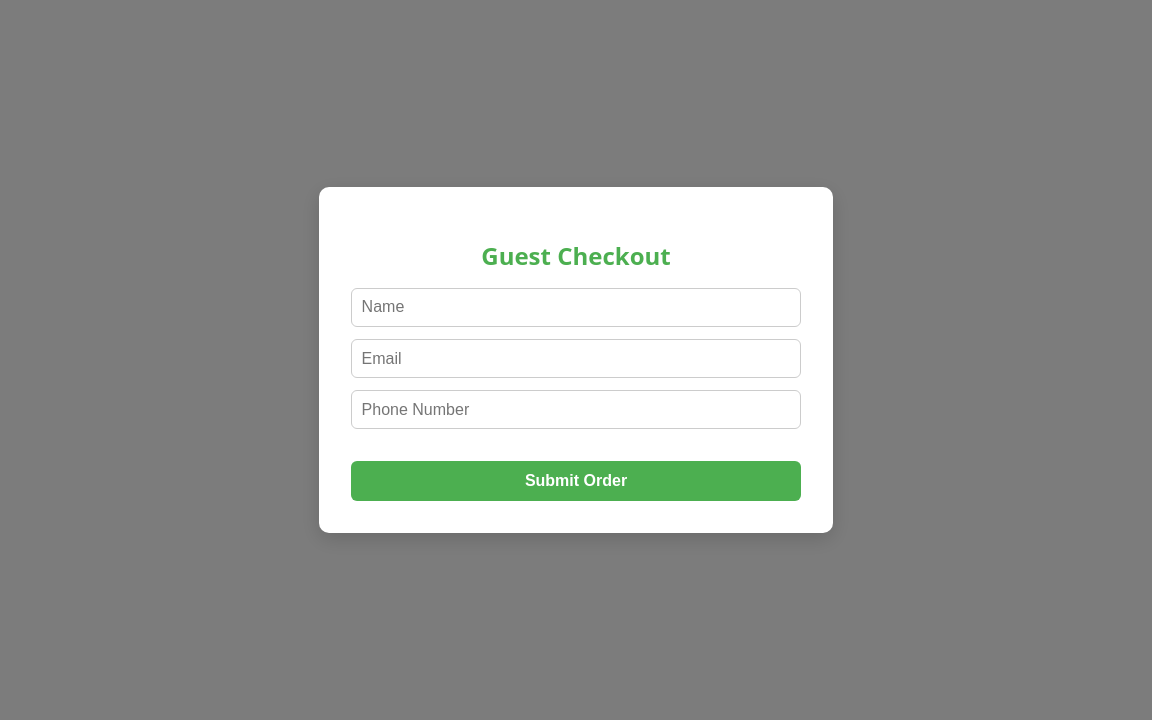
Test: GuestCheckoutModal › submits order and shows success message
Step 1. Type "John Doe" into the field with placeholder "Name" → (576, 308), box top-left (351, 288), bottom-right (801, 327)
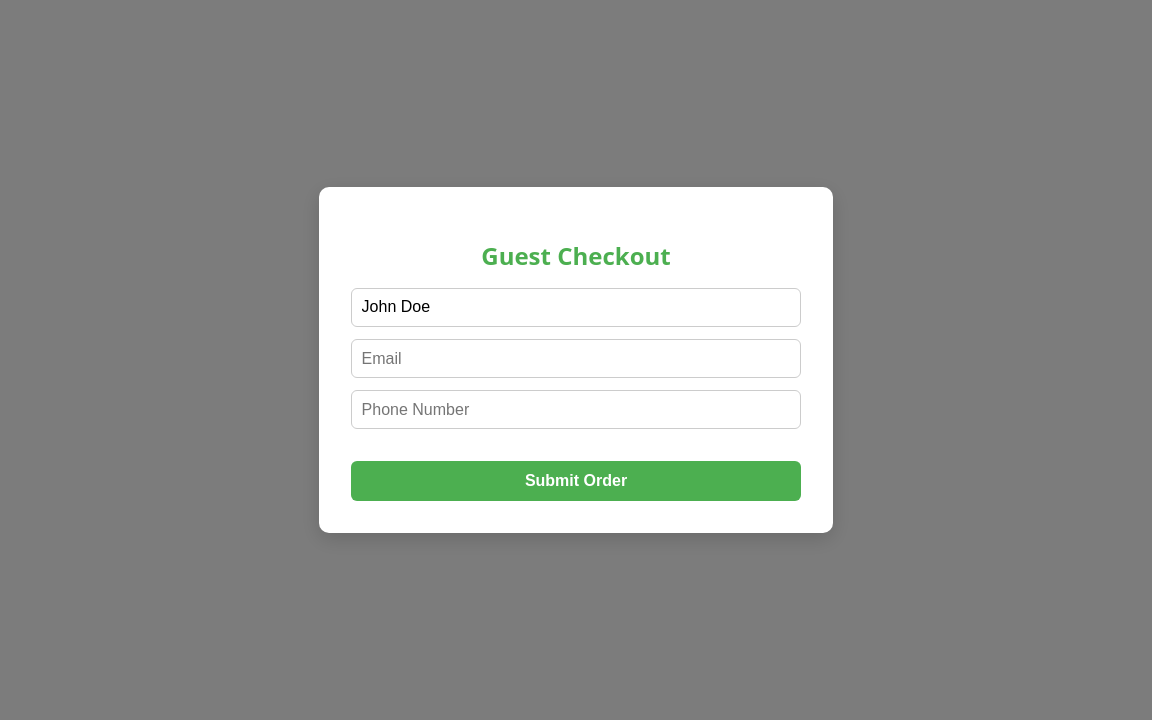
Step 2. Type "john@example.com" into the field with placeholder "Email" → (576, 359), box top-left (351, 339), bottom-right (801, 378)
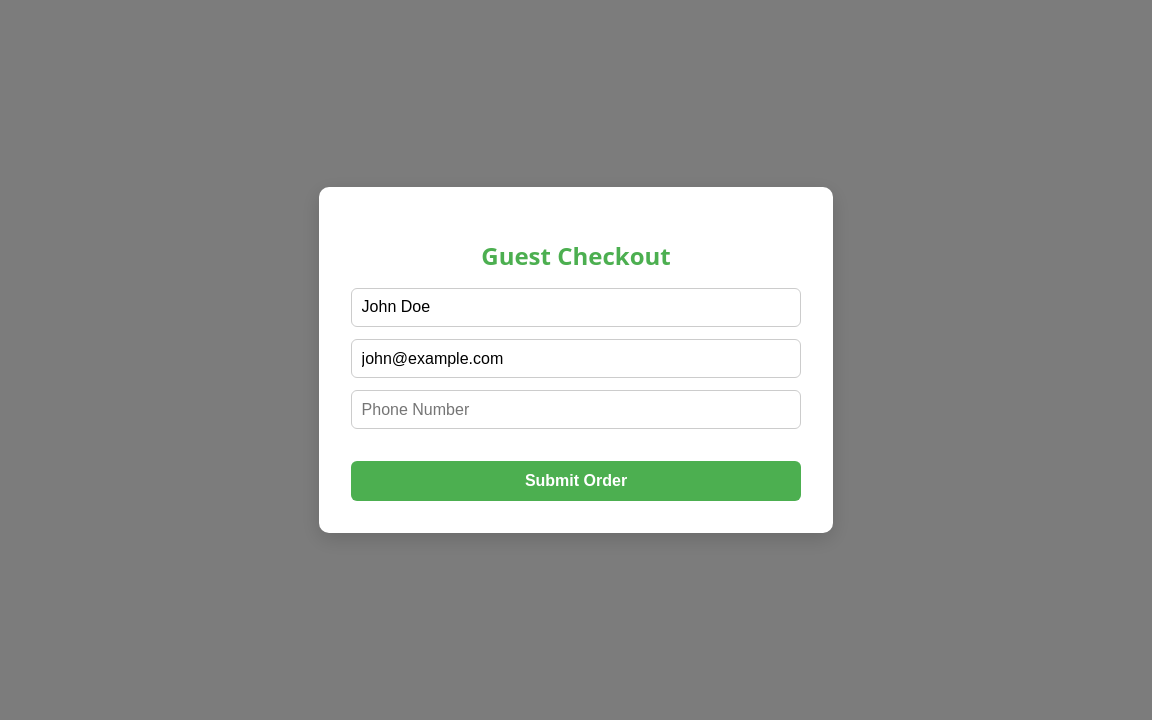
Step 3. Type "1234567890" into the field with placeholder "Phone Number" → (576, 410), box top-left (351, 390), bottom-right (801, 430)
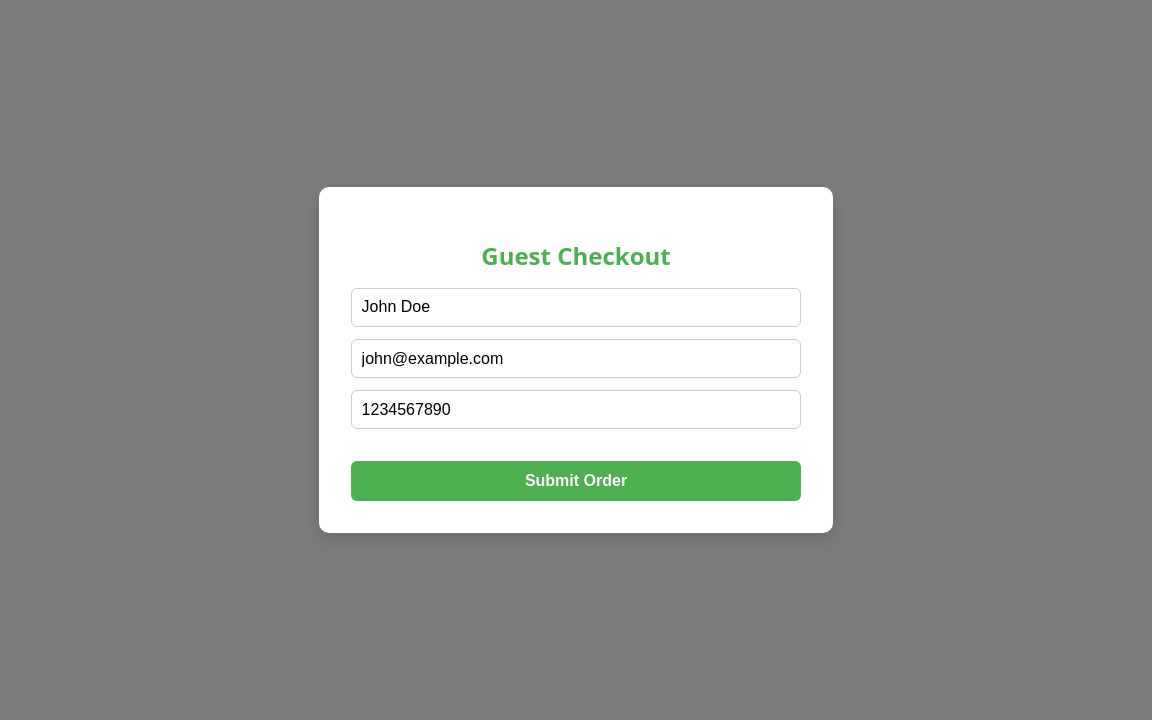
Step 4. Click the button "Submit Order" → (576, 481), box top-left (351, 461), bottom-right (801, 501)
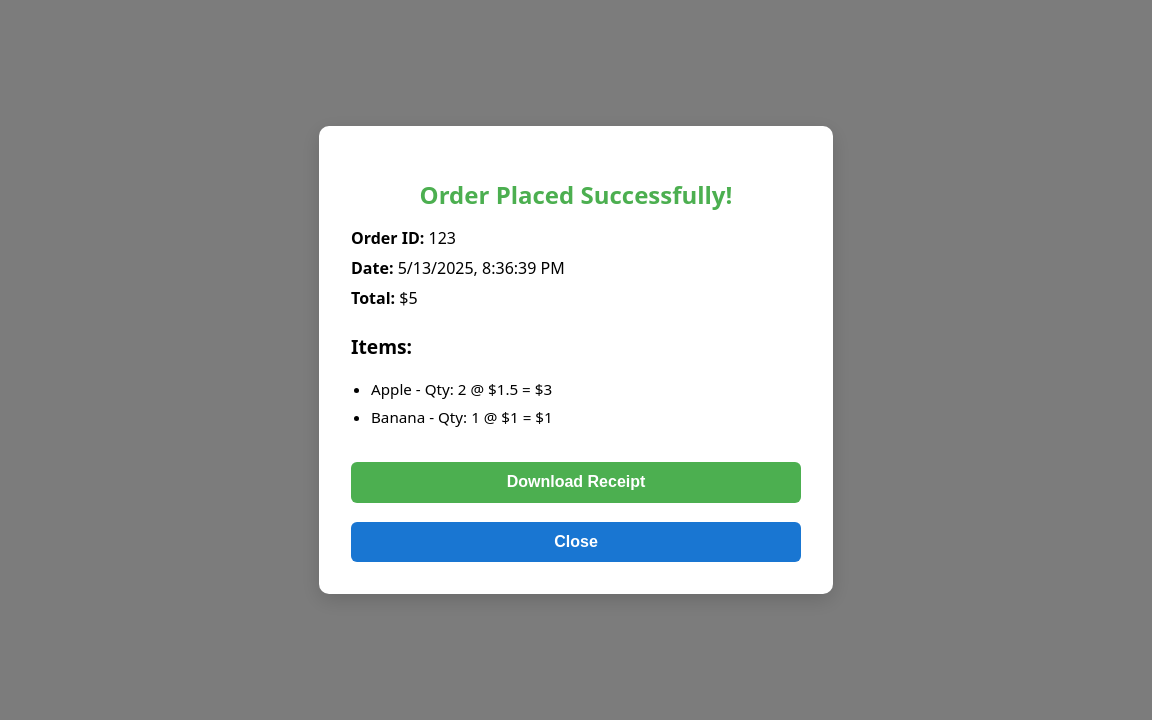
Check: the heading "Order Placed Successfully!" is shown, box top-left (420, 178), bottom-right (732, 211)
Check: the text "Order ID:" is shown, box top-left (351, 227), bottom-right (424, 249)
Check: the text "Total:" is shown, box top-left (351, 287), bottom-right (395, 309)
